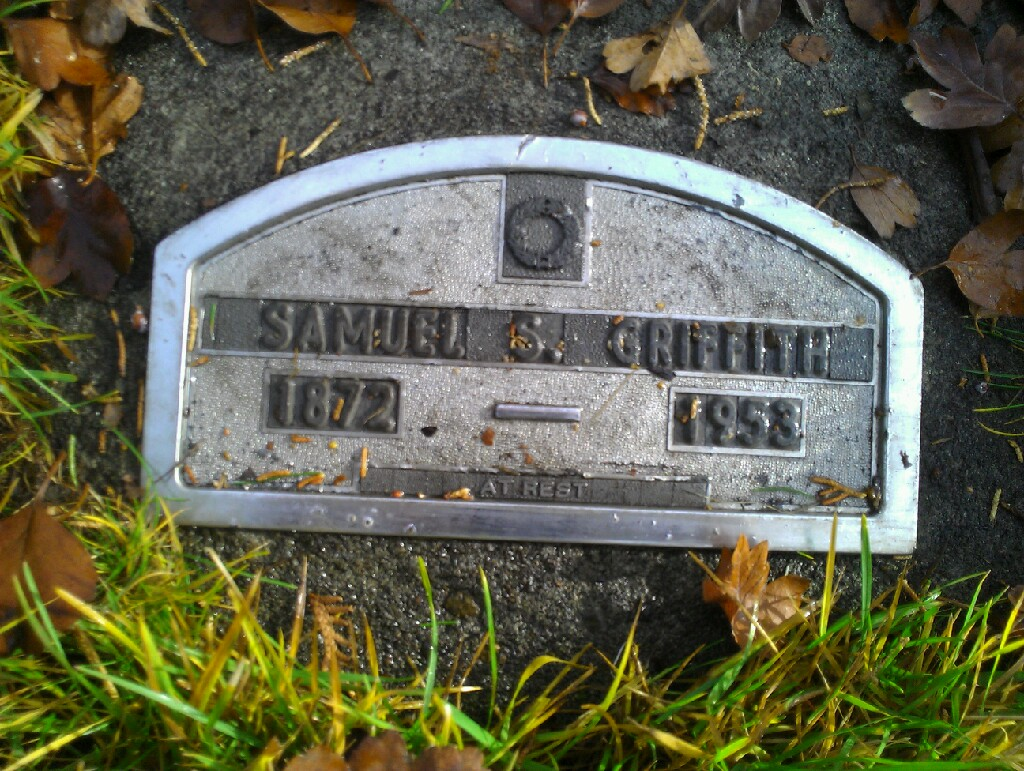flat: (126, 117, 942, 613)
